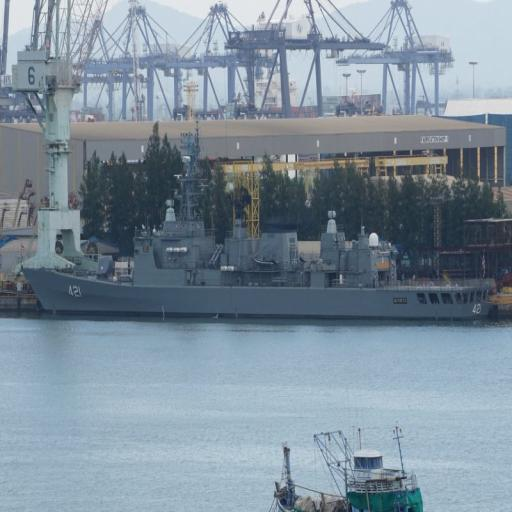Fragata: (21, 162, 499, 321)
